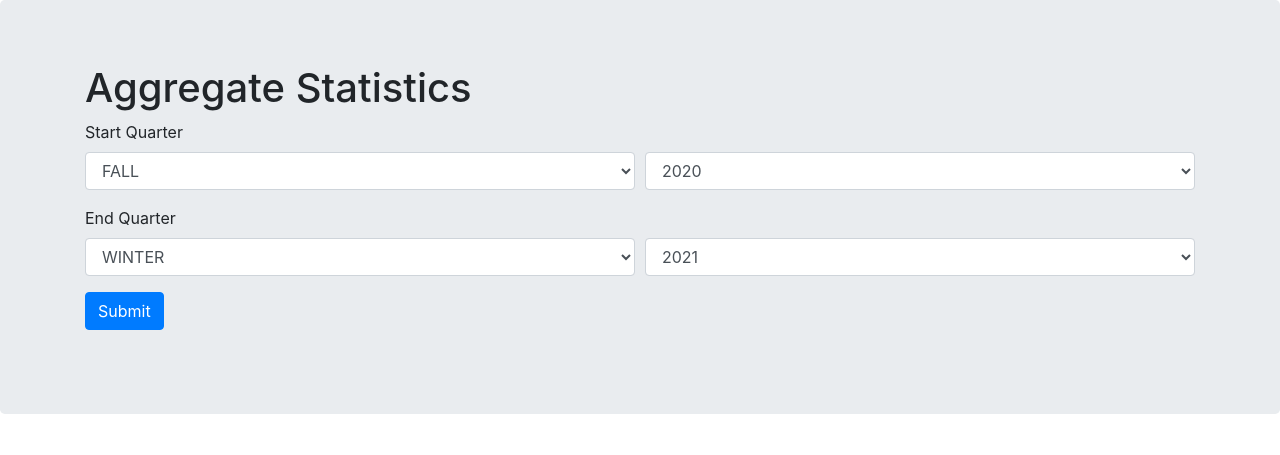
Test: AggregateStatistics page tests › AggregateStatistics no results is displayed for empty results
Step 1. Click the button "Submit" → x=124, y=311, box [85,292,164,330]
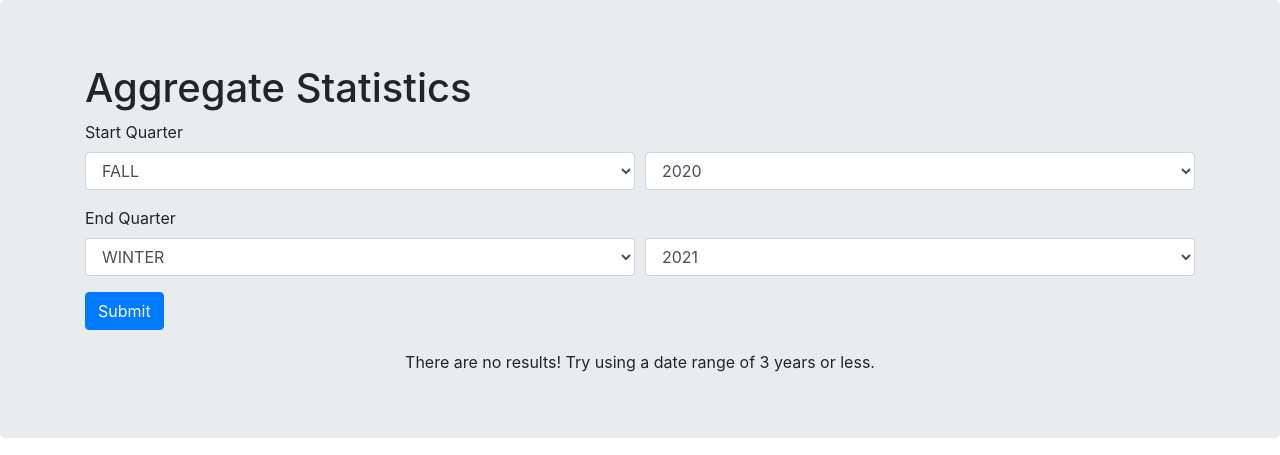
Expected: the text "There are no results! Try using a date range of 3 years or less." is shown, [405,352,875,372]
